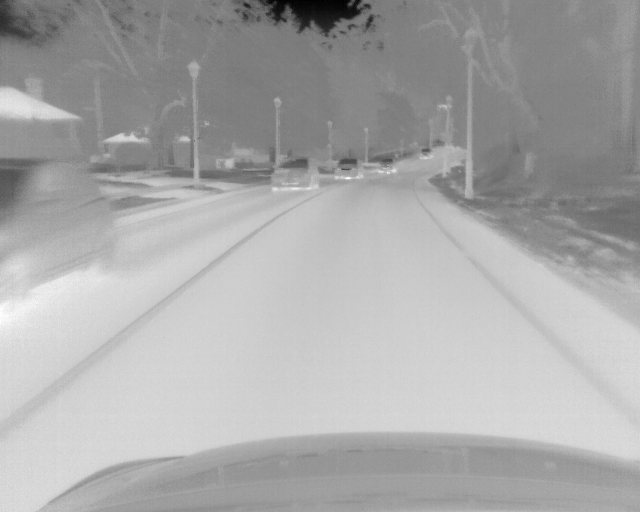car: (1, 156, 119, 314), (271, 158, 320, 191), (333, 158, 365, 180), (376, 157, 397, 174), (418, 148, 433, 159)
